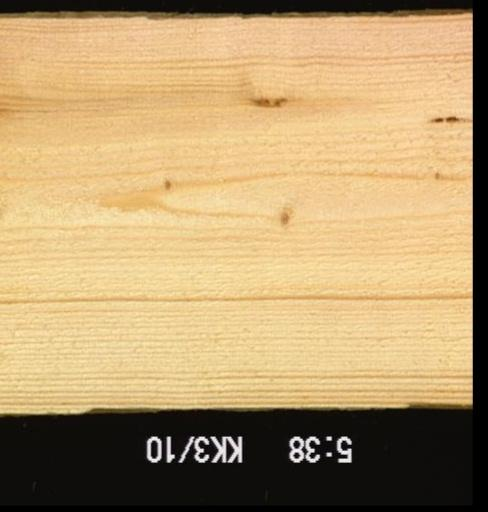small_knot: (278, 210, 288, 224), (162, 177, 171, 191), (433, 170, 440, 179)
